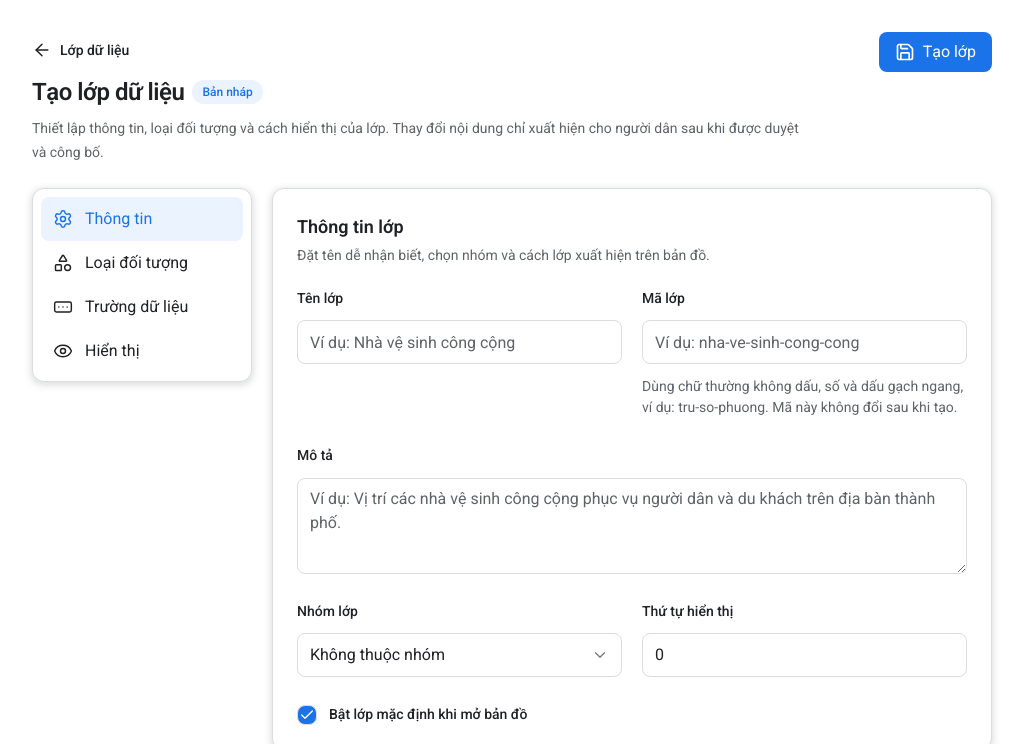
Test: layer configuration editor › keeps exact API problem context for {"status":422,"code":"SCHEMA_VIOLATION","requestId":"req-422","details":{},"name":"AdminApiError"}
The width and height of the screenshot is (1024, 744).
In the field labelled "Mã lớp": (804, 342) [642, 320, 967, 364], type "tru-so-hanh-chinh"
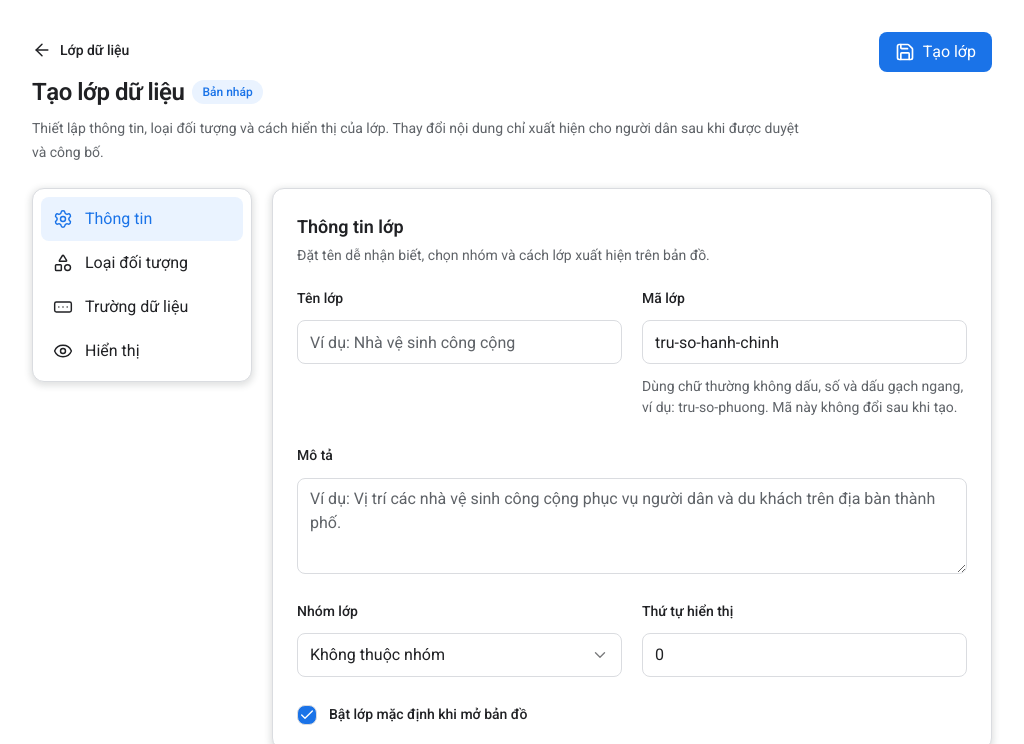
In the field labelled "Tên lớp": (460, 342) [297, 320, 622, 364], type "Trụ sở hành chính"
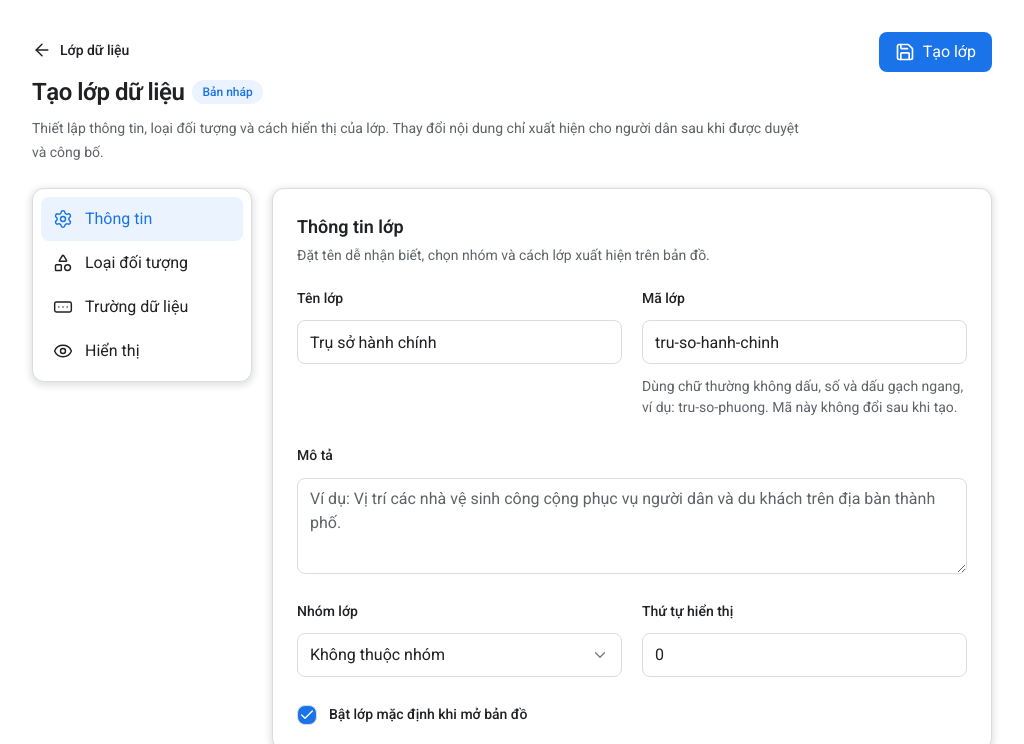
Click the button "Tạo lớp": (935, 52) [879, 32, 992, 72]
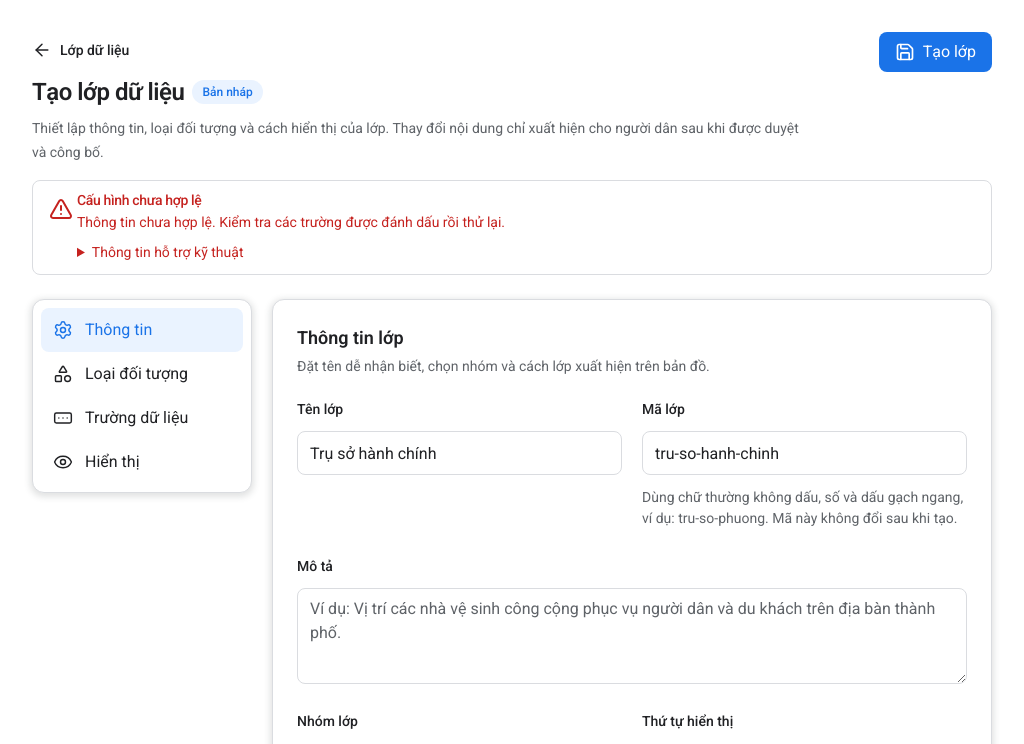
Check: the heading "Cấu hình chưa hợp lệ" is shown, box [77, 192, 201, 208]
Check: the message shows "Thông tin chưa hợp lệ. Kiểm tra các trường được đánh dấu rồi thử lại.", box [77, 214, 505, 230]
